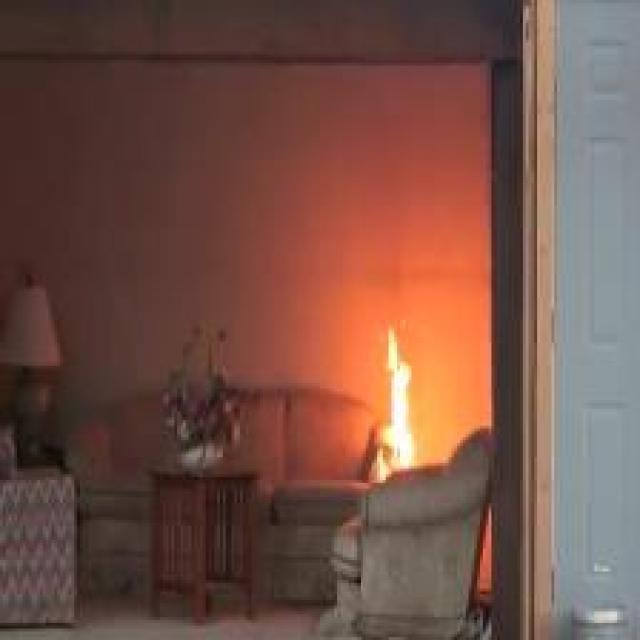Fire: (378, 327, 416, 484)
